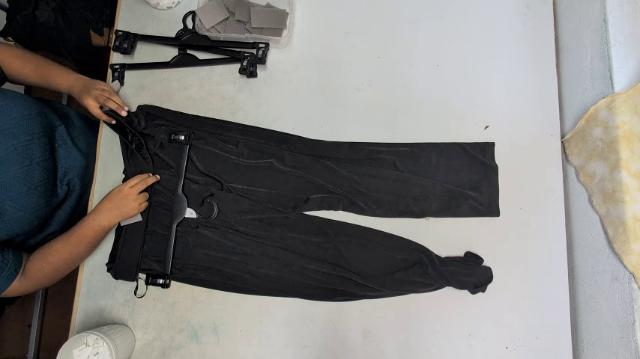new-garment: (106, 105, 498, 302)
